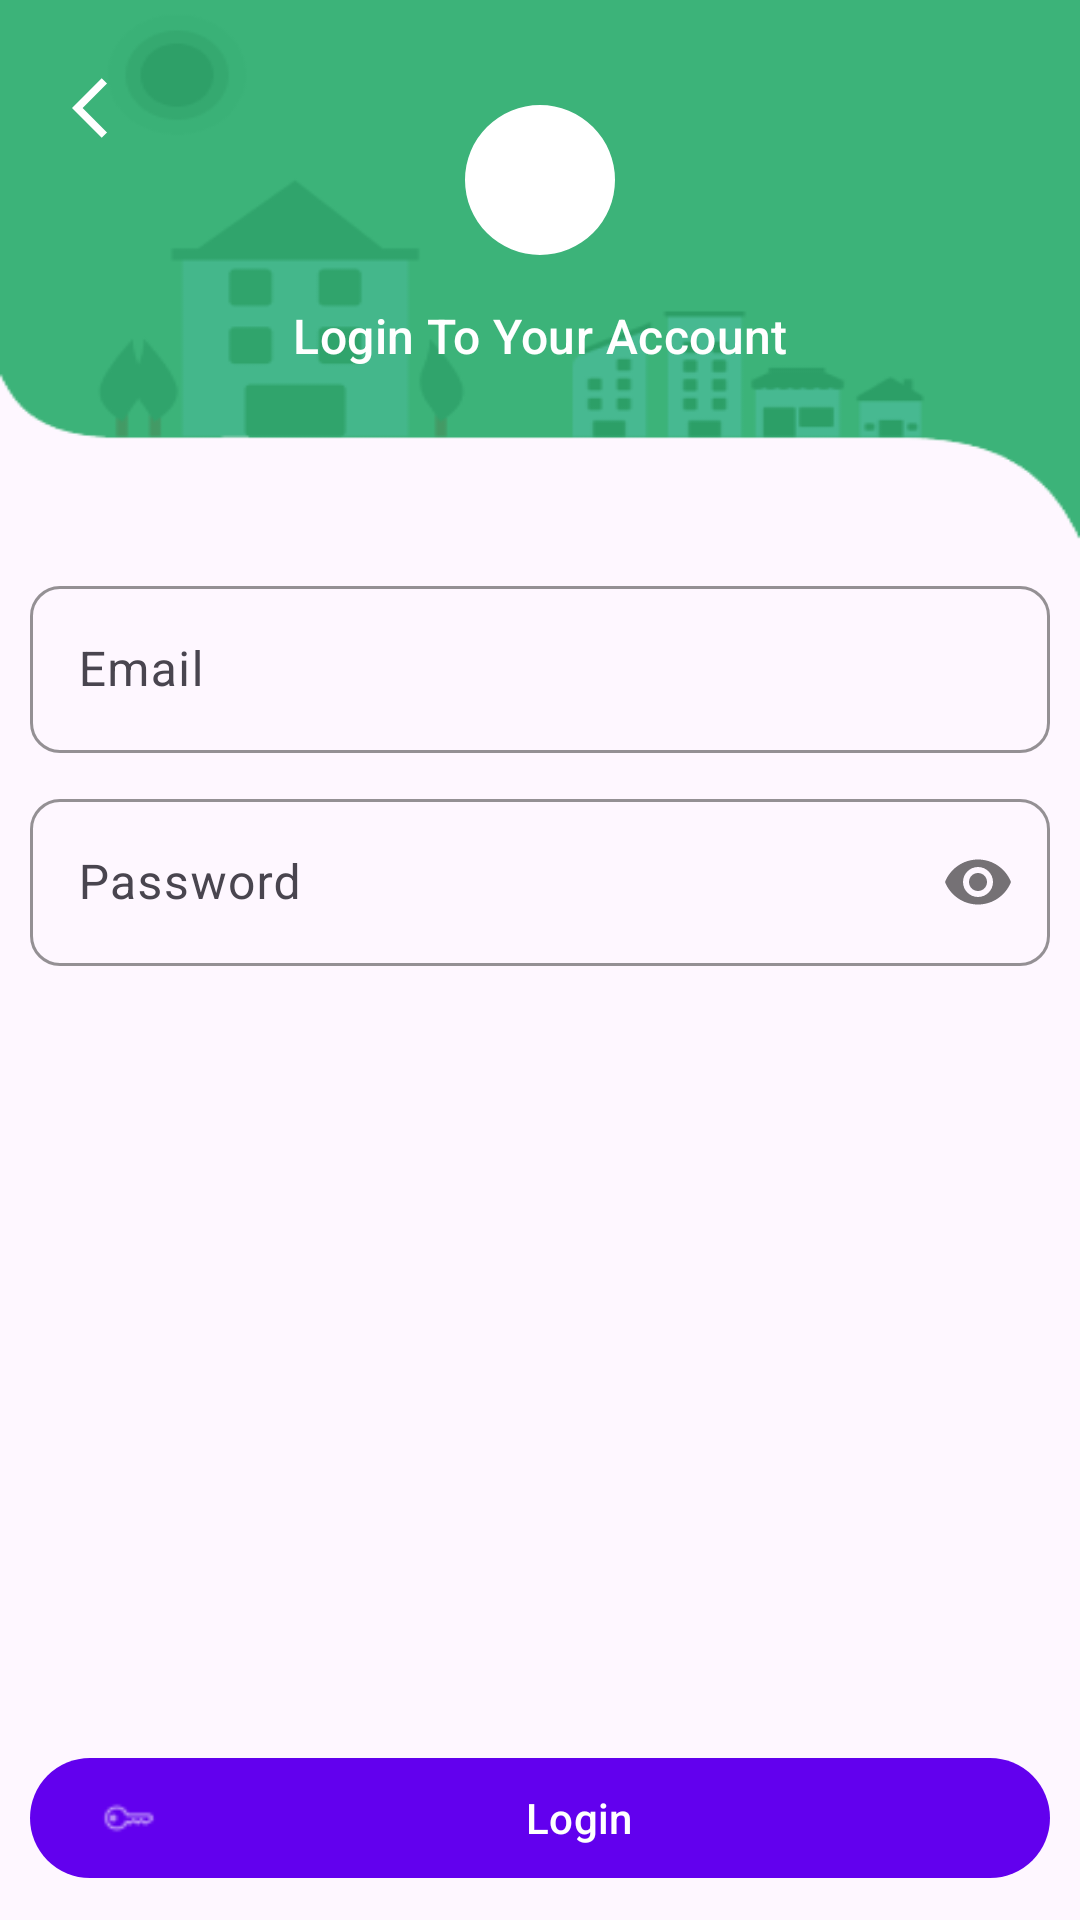

Point at icon controls on the screen. Image size 1080×1920, points as (x=x, y=y).
back login page: (x=89, y=108)
